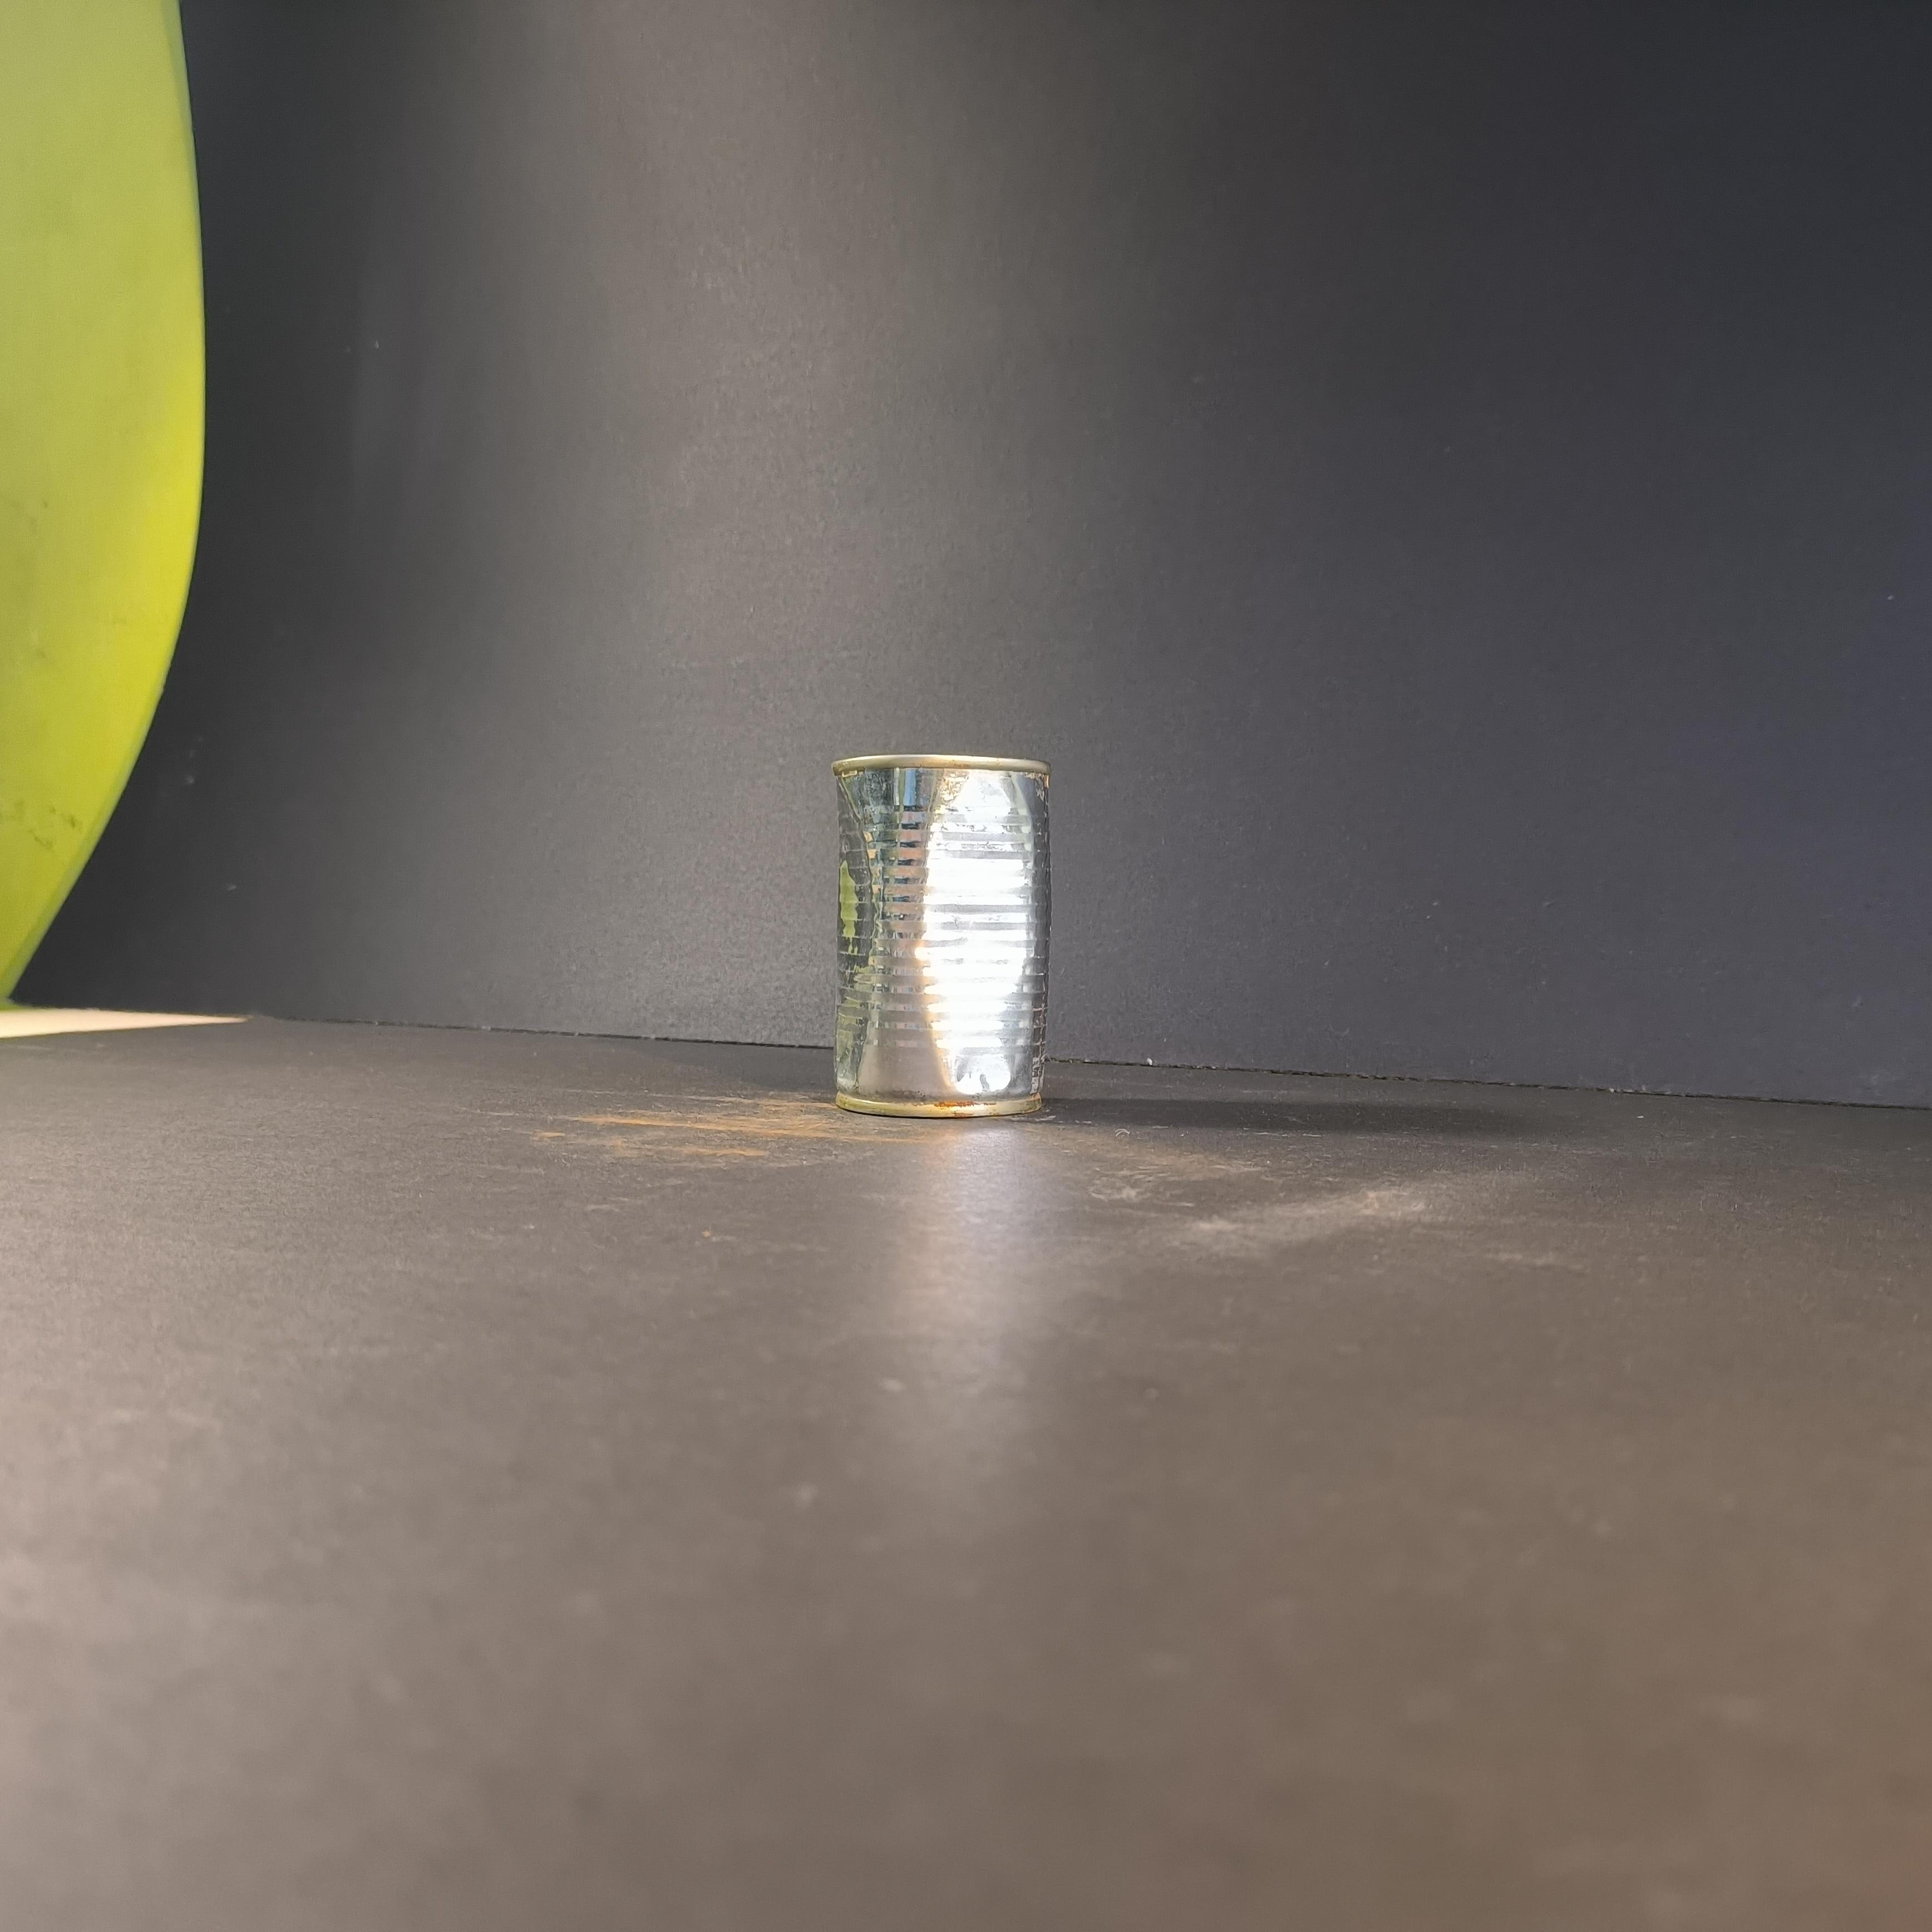Dented: (796, 713, 1077, 1129)
